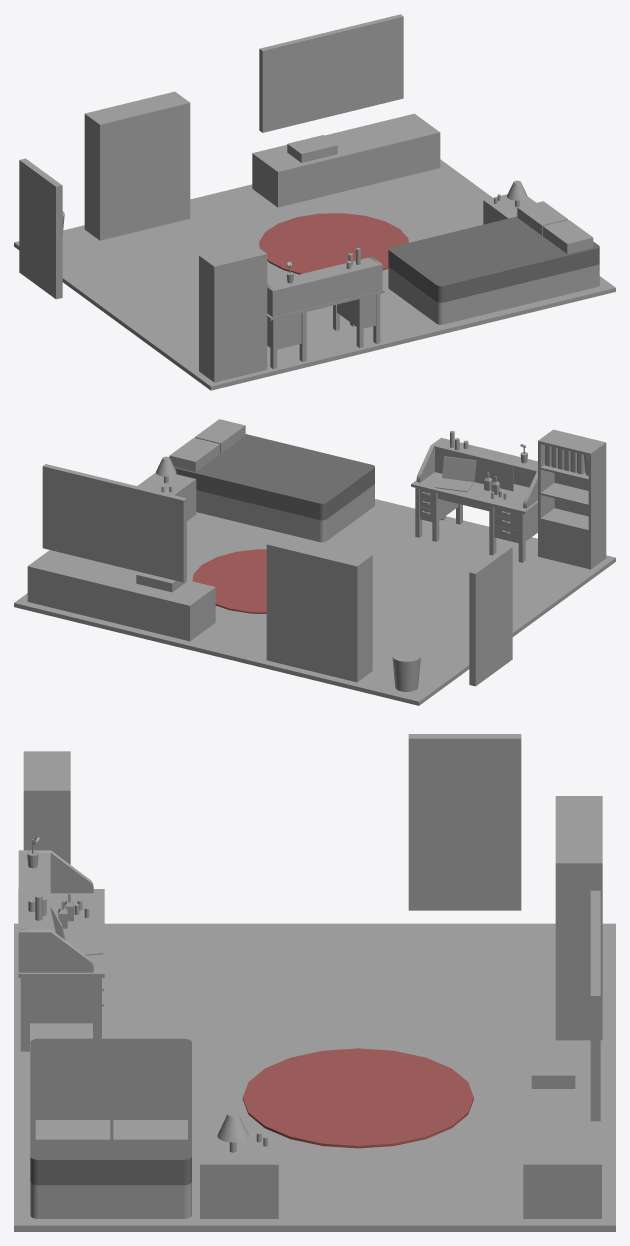
The model's file is Bedroomtest.fbx.
3 views of the same model, one above another, from view 1: azimuth 30°, elevation 25°; view 2: azimuth 150°, elevation 25°; view 3: azimuth 270°, elevation 25° (orthographic). The views are drawn at different scales.
Visible parts, largest first — view 1: polySurface2; view 2: polySurface2; view 3: polySurface2.
Boxes of the visible parts, x1,y1,x2,y2 form: polySurface2: (14, 14, 615, 390); polySurface2: (14, 419, 615, 705); polySurface2: (14, 734, 615, 1231).
Bounding box in the file's own units: 33.71 × 10.68 × 26.69.
